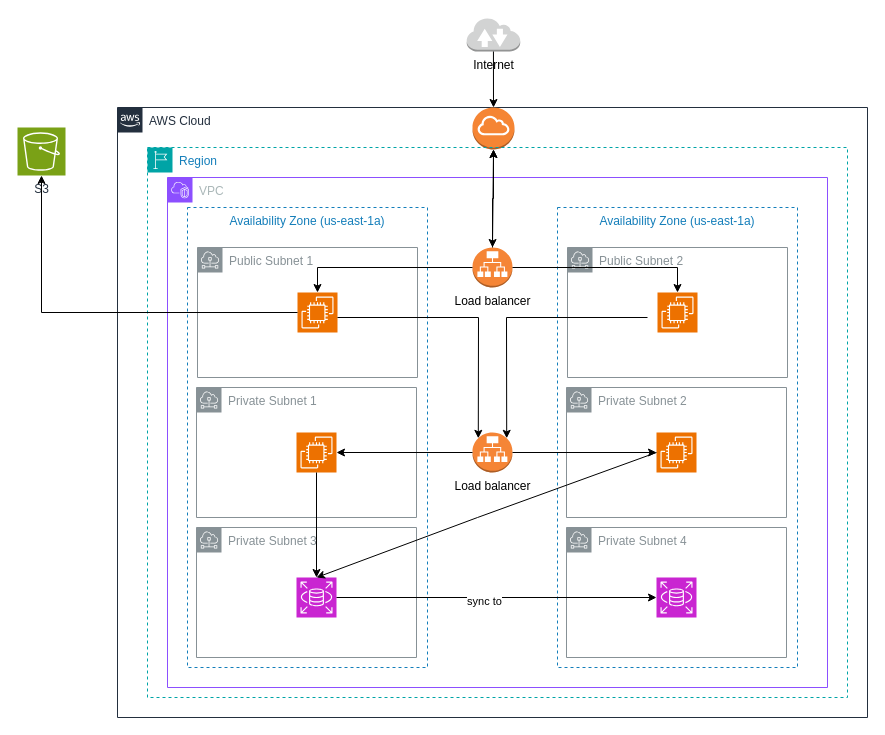
This 885x735 diagram has some shape labels left out. Here are the shapes that lost their labels. From the top down, the centre of each, then its label:
At (493,128): "Internet gateway".
At (317,312): "Web Server 1".
At (677,312): "Web Server 2".
At (316,452): "App Server 1".
At (676,452): "App Server 2".
At (316,597): "DB Server 1".
At (676,597): "DB Server 2".
